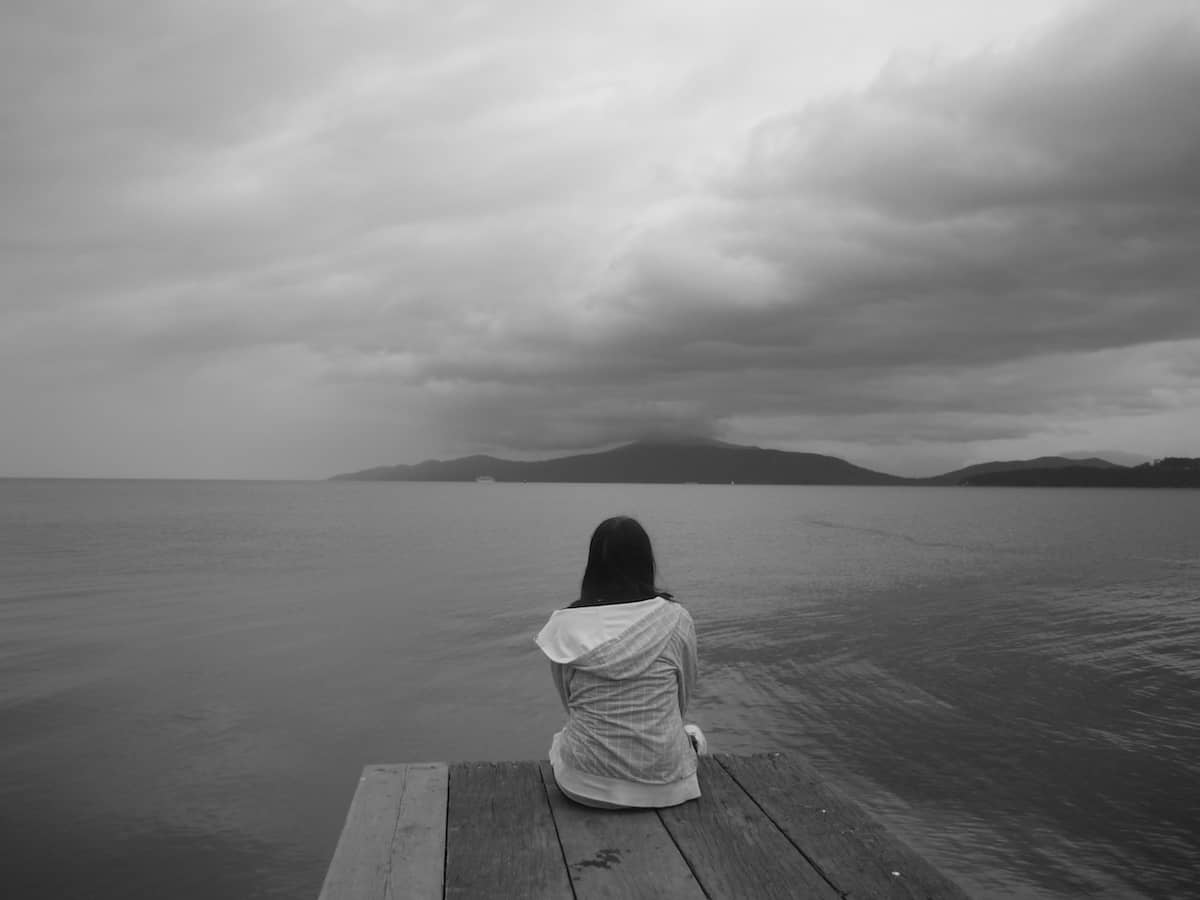Humano: (530, 498, 727, 814)
